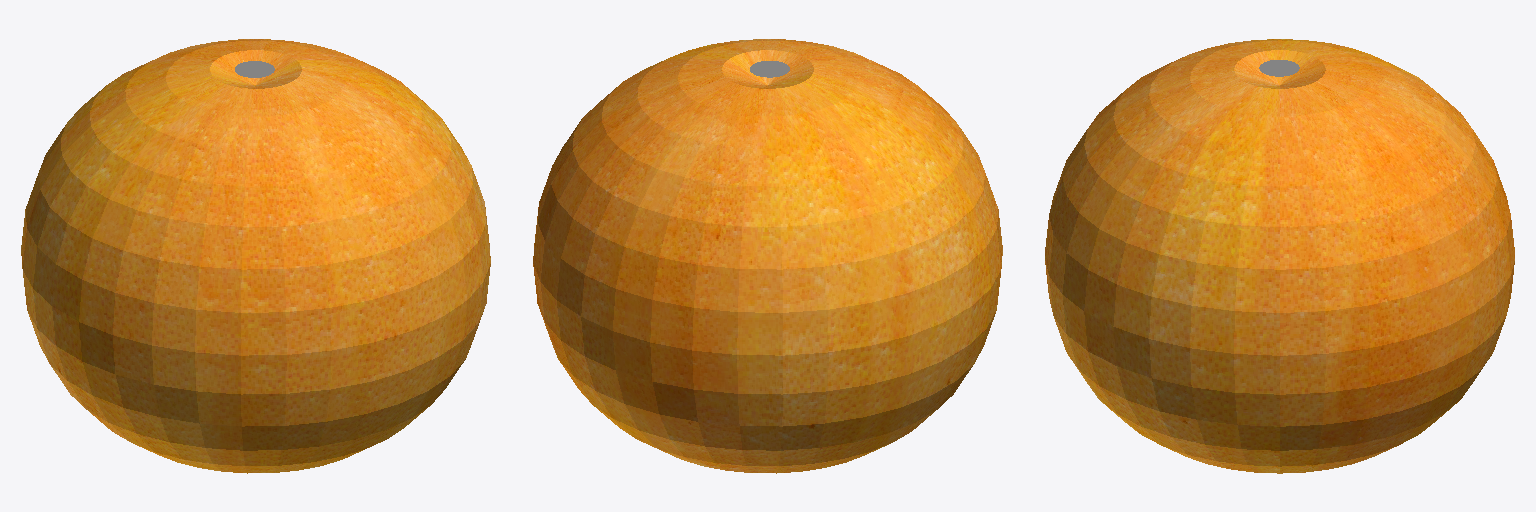
3 renders of one model, left to right at view 1: azimuth 30°, elevation 25°; view 2: azimuth 150°, elevation 25°; view 3: azimuth 270°, elevation 25°, orthographic.
Parts seen in each view (by area): view 1: Sphere01, Circle01; view 2: Sphere01, Circle01; view 3: Sphere01, Circle01.
Boxes of the visible parts, <box> form: Sphere01: <box>21,39,490,473</box>; Circle01: <box>235,61,274,77</box>; Sphere01: <box>533,39,1002,473</box>; Circle01: <box>750,61,789,77</box>; Sphere01: <box>1045,39,1514,473</box>; Circle01: <box>1259,60,1299,76</box>.
Bounding box in the file's own units: 60 × 52.59 × 60.
Materials: 2 (1 with a texture image).